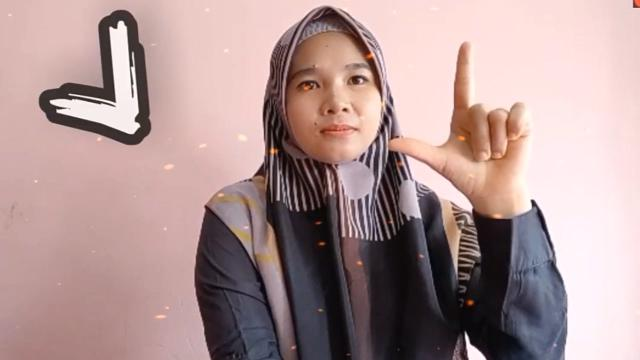L: (386, 38, 534, 214)
